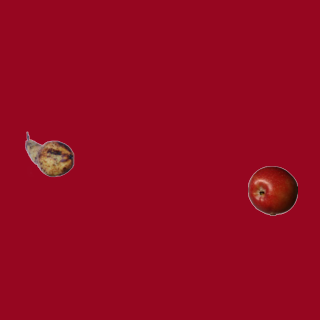Apple Braeburn: (247, 165, 297, 215)
Pear Abate: (24, 129, 74, 179)
